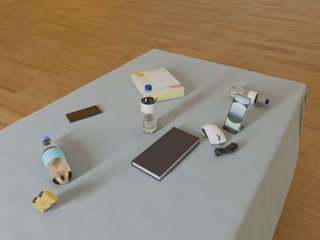book: (131, 127, 200, 181)
bottle: (41, 136, 72, 185), (141, 84, 157, 133), (229, 86, 269, 104)
box: (131, 67, 184, 101)
mouse: (201, 124, 226, 146)
phone: (224, 93, 252, 132), (66, 105, 102, 123)
toy_car: (31, 190, 58, 213)
